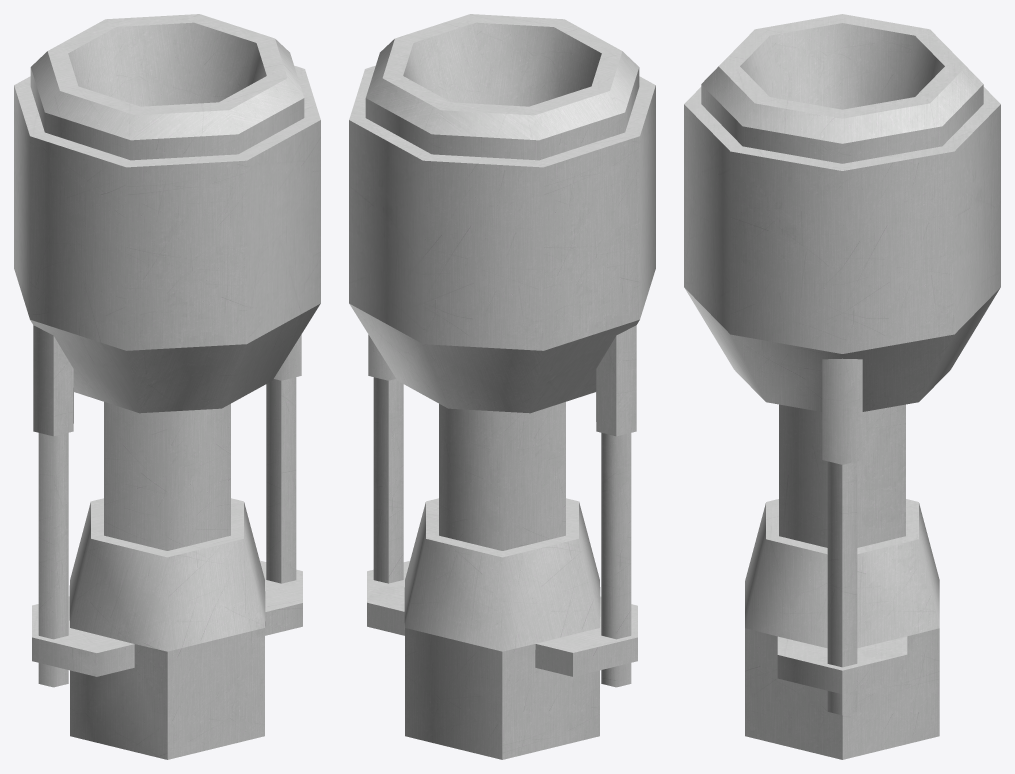
The model's file is rocket.obj.
3 renders of one model, left to right at view 1: azimuth 30°, elevation 25°; view 2: azimuth 150°, elevation 25°; view 3: azimuth 270°, elevation 25°, orthographic.
Visible parts, largest first — view 1: Rocket1; view 2: Rocket1; view 3: Rocket1.
Boxes of the visible parts, bbox=[...] form: Rocket1: bbox=[14, 14, 320, 759]; Rocket1: bbox=[349, 14, 655, 759]; Rocket1: bbox=[684, 14, 1000, 759].
Size of the model in its own units: 4 by 9 by 4.
Materials: 1 (1 with a texture image).
